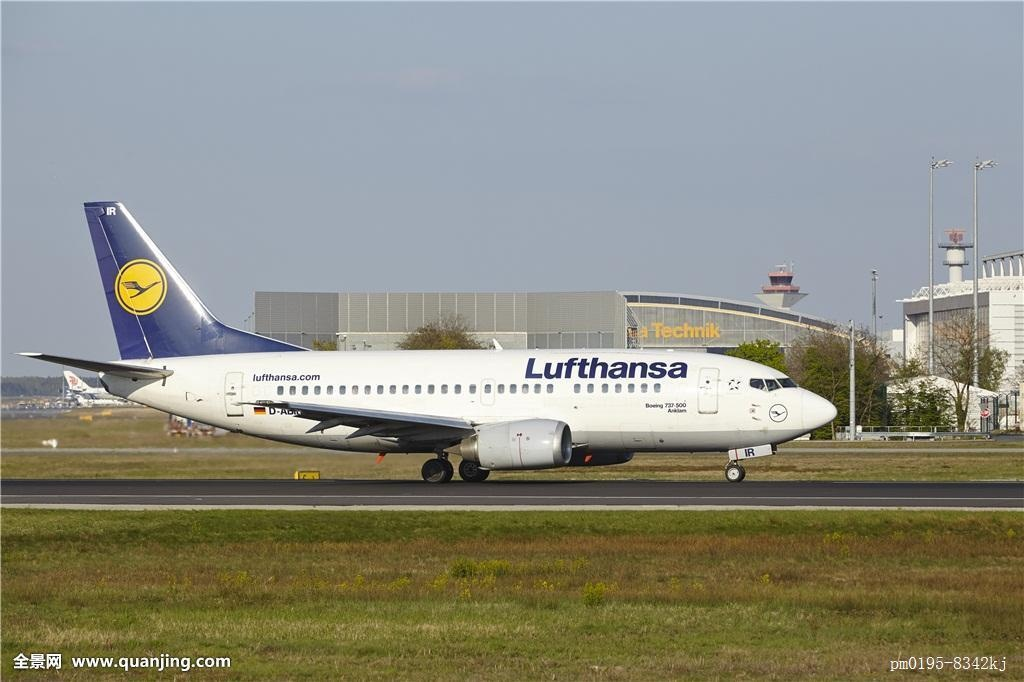airplane: (60, 190, 851, 470)
